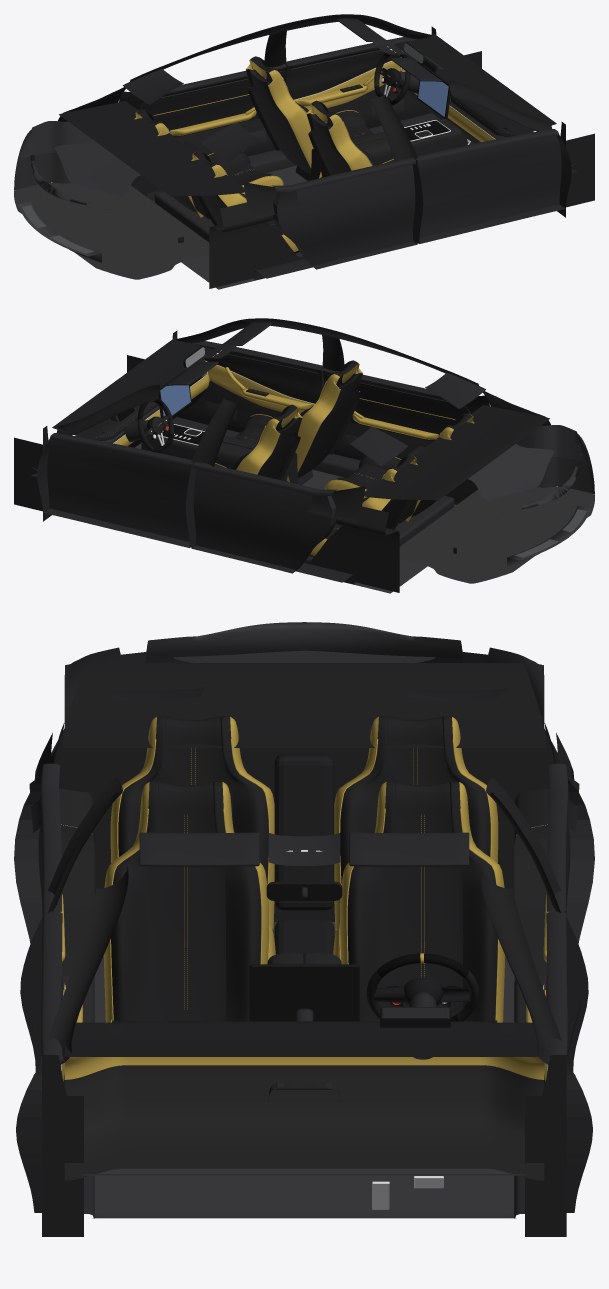
File: su7-ultra-interior.glb
3 views of the same model, one above another, from view 1: azimuth 30°, elevation 25°; view 2: azimuth 150°, elevation 25°; view 3: azimuth 270°, elevation 25° (orthographic). The views are drawn at different scales.
Parts seen in each view (by area): view 1: SU7Ultra_Cabin, int_door_R, int_rdoor_R, int_door_L, int_rdoor_L, int_trunk, screen_main; view 2: SU7Ultra_Cabin, int_door_L, int_rdoor_L, int_door_R, int_rdoor_R, int_trunk, screen_main; view 3: SU7Ultra_Cabin, int_trunk, int_door_L, int_door_R, int_rdoor_R, int_rdoor_L.
Boxes of the visible parts, bbox=[...] form: SU7Ultra_Cabin: bbox=[14, 14, 594, 289]; int_door_R: bbox=[415, 129, 571, 243]; int_rdoor_R: bbox=[272, 158, 421, 269]; int_door_L: bbox=[284, 37, 431, 128]; int_rdoor_L: bbox=[138, 64, 286, 156]; int_trunk: bbox=[27, 140, 140, 209]; screen_main: bbox=[418, 81, 448, 116]; SU7Ultra_Cabin: bbox=[14, 318, 594, 593]; int_door_L: bbox=[37, 433, 193, 547]; int_rdoor_L: bbox=[187, 462, 337, 573]; int_door_R: bbox=[177, 341, 324, 432]; int_rdoor_R: bbox=[322, 368, 470, 460]; int_trunk: bbox=[468, 444, 581, 513]; screen_main: bbox=[160, 385, 190, 416]; SU7Ultra_Cabin: bbox=[27, 647, 581, 1236]; int_trunk: bbox=[146, 622, 462, 662]; int_door_L: bbox=[526, 911, 592, 1212]; int_door_R: bbox=[16, 911, 82, 1212]; int_rdoor_R: bbox=[14, 763, 65, 991]; int_rdoor_L: bbox=[543, 763, 594, 991].
Bounding box in the file's own units: 3.74 × 1.12 × 1.94.
24 materials, 2 textured.
